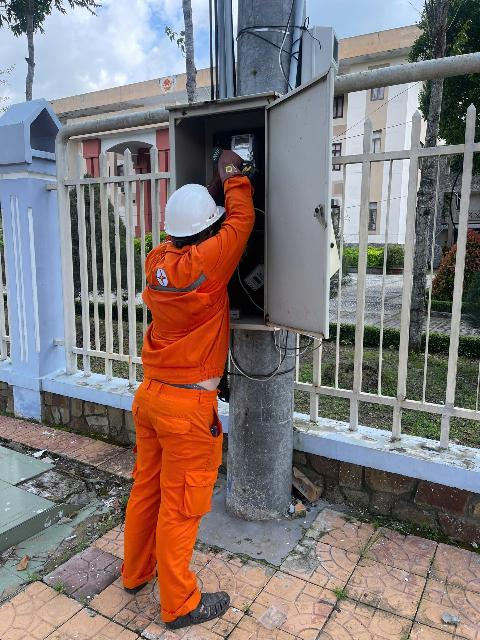gloves: (215, 149, 248, 183), (204, 179, 237, 202)
helmet: (158, 182, 231, 246)
shoes: (156, 588, 233, 631), (113, 540, 166, 595)
